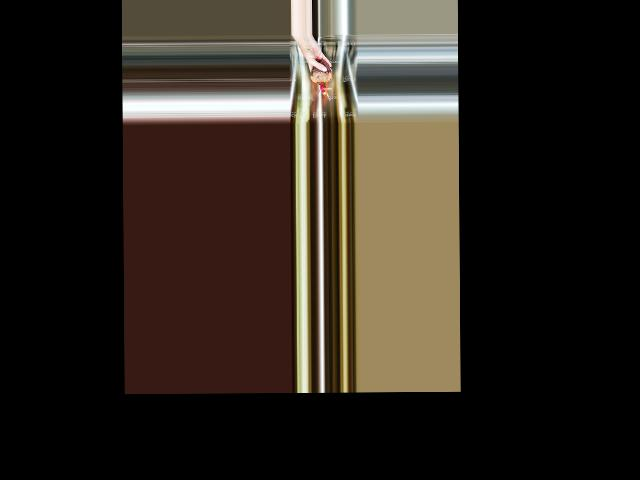beet: (310, 59, 332, 100)
